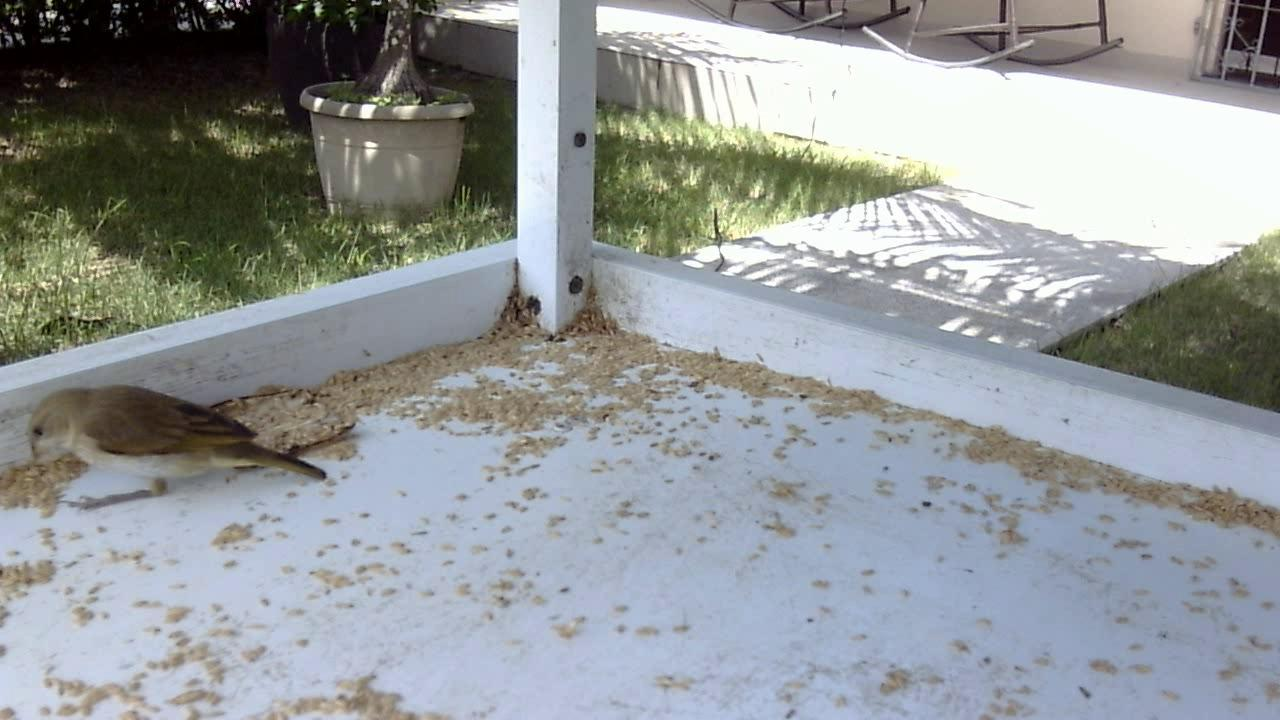canario_do_amazonas: (22, 373, 349, 523)
